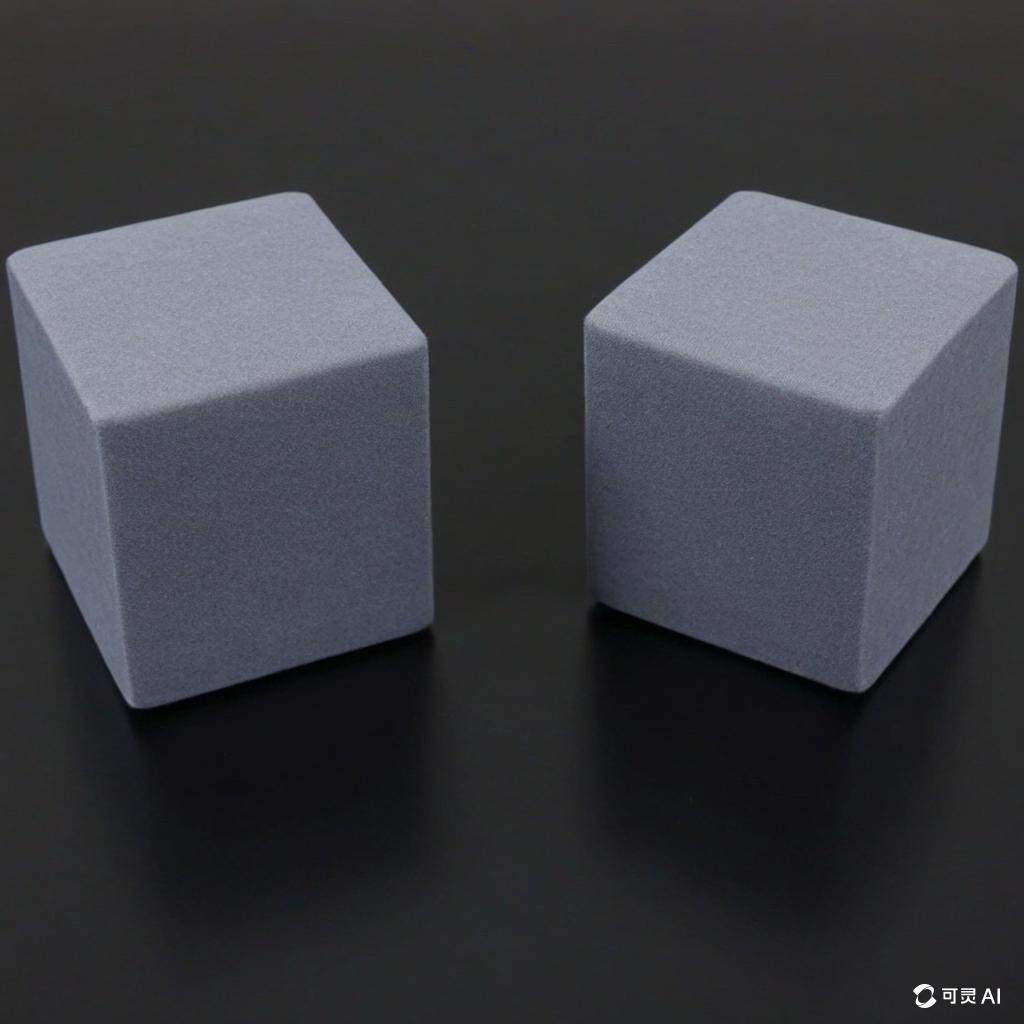cube: (4, 188, 435, 711), (581, 187, 1017, 694)
